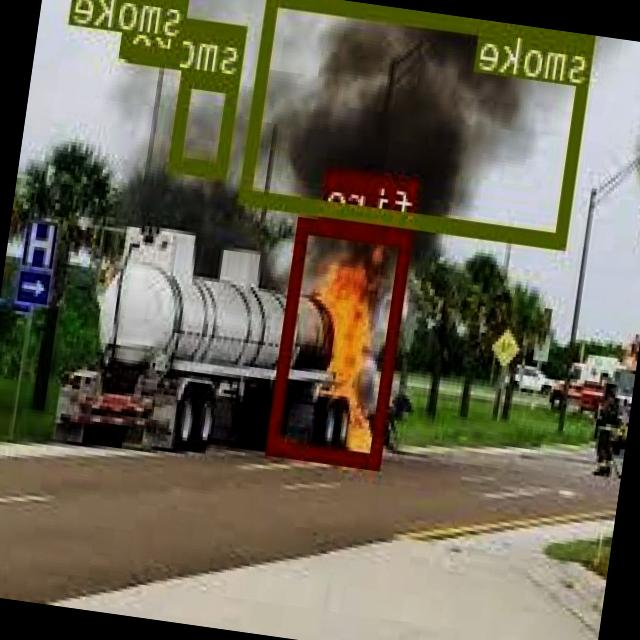fire: (269, 218, 414, 468)
smoke: (243, 0, 596, 247), (172, 70, 242, 177), (122, 0, 193, 61)
